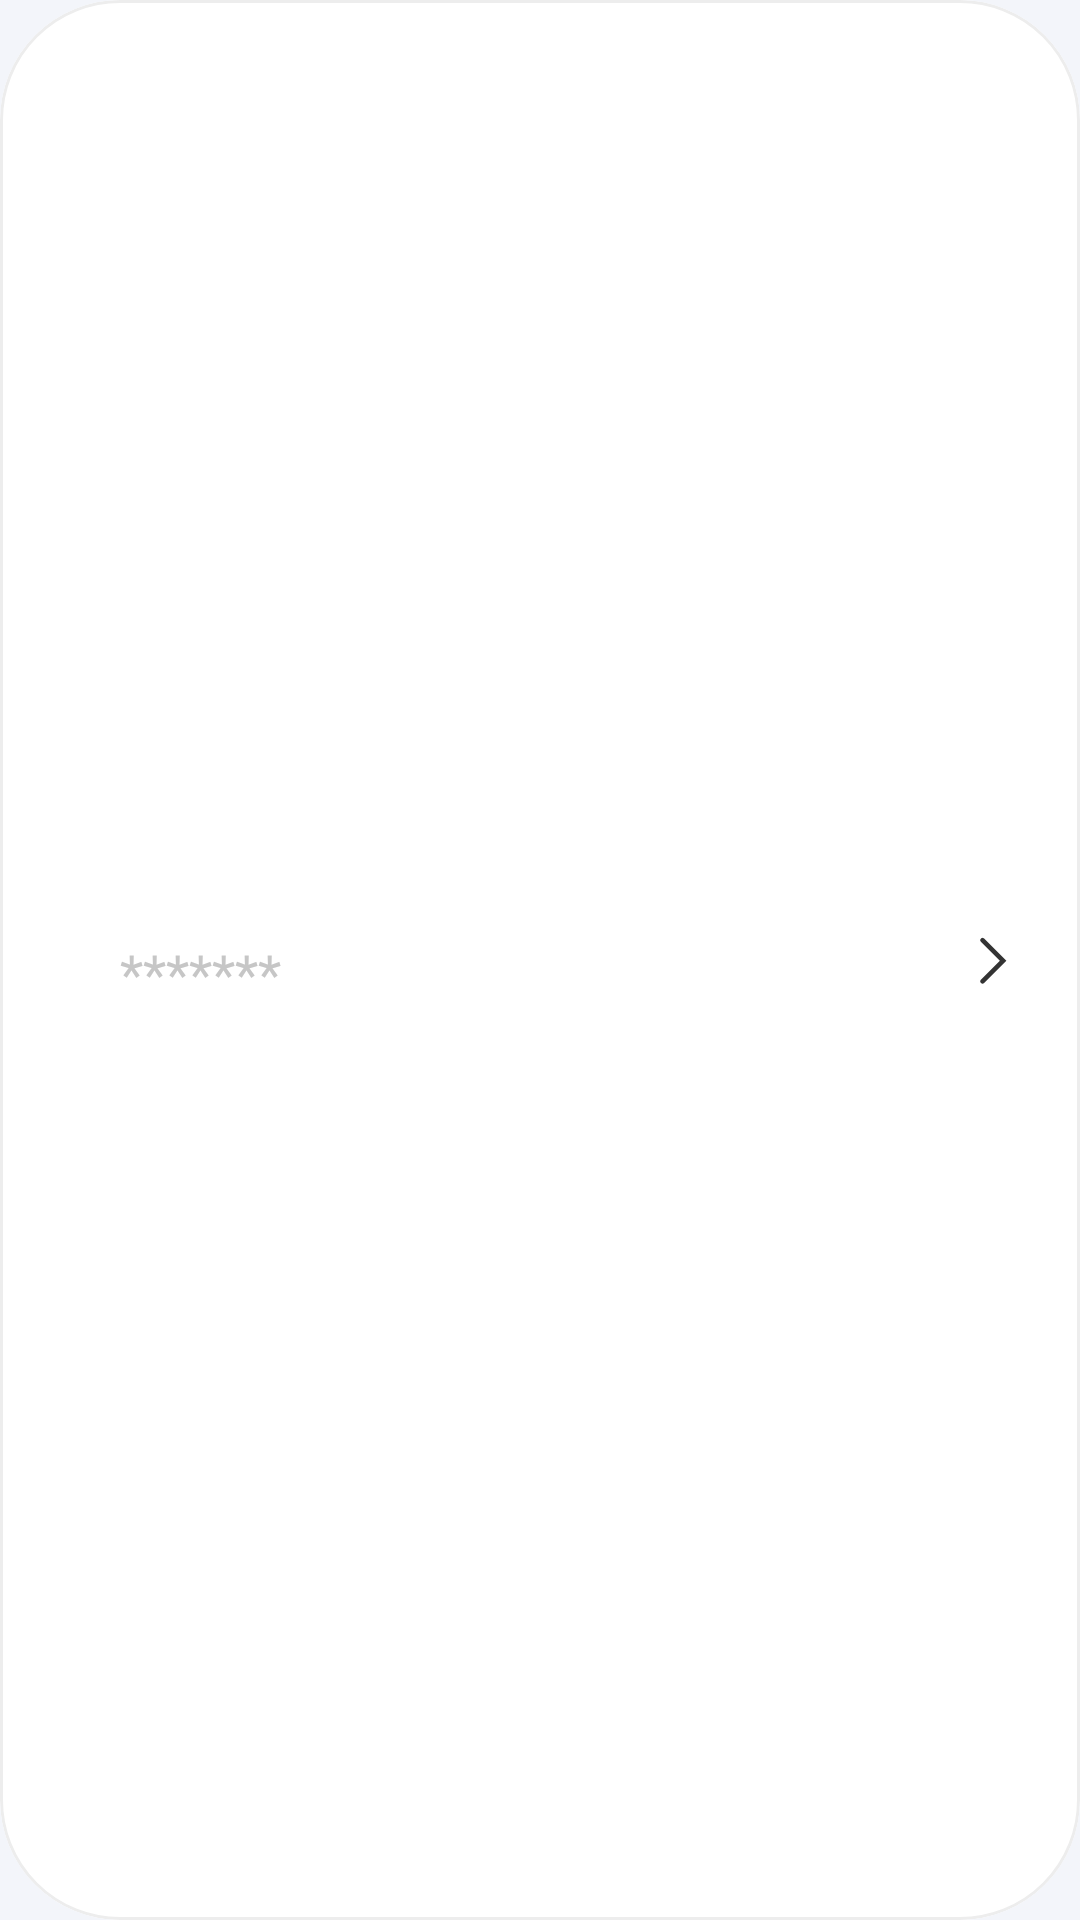

Where icons sit on this 1080×1920 app screen, as (x1, y1, x2, y2):
arrow right: (980, 937, 1007, 984)
